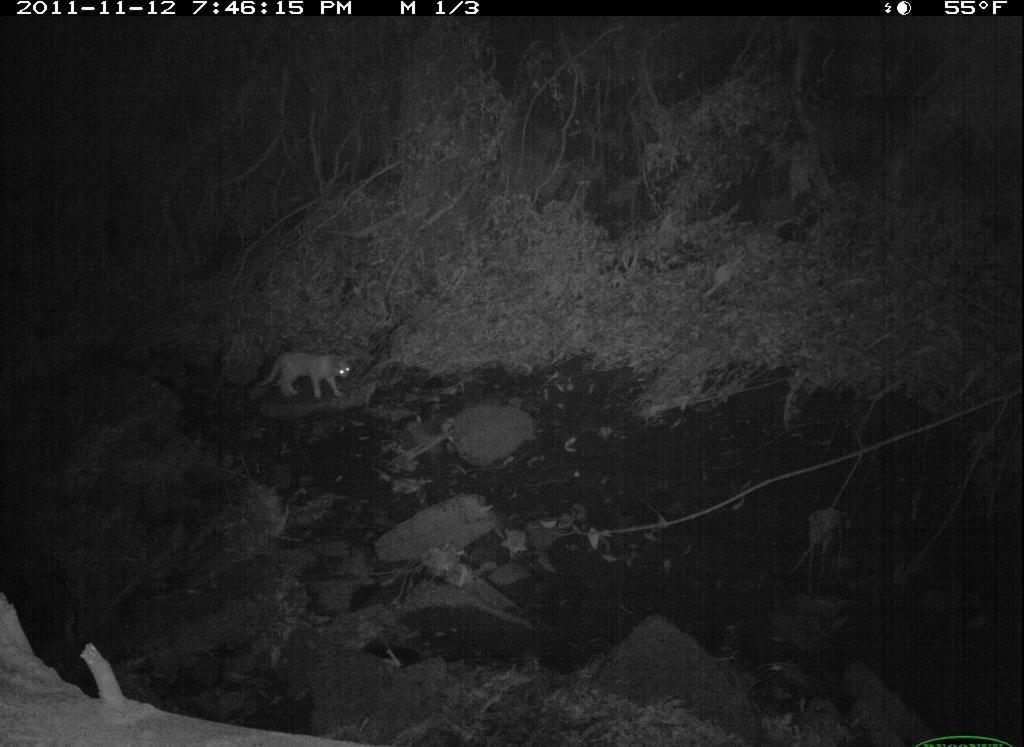cat: (259, 340, 363, 406)
